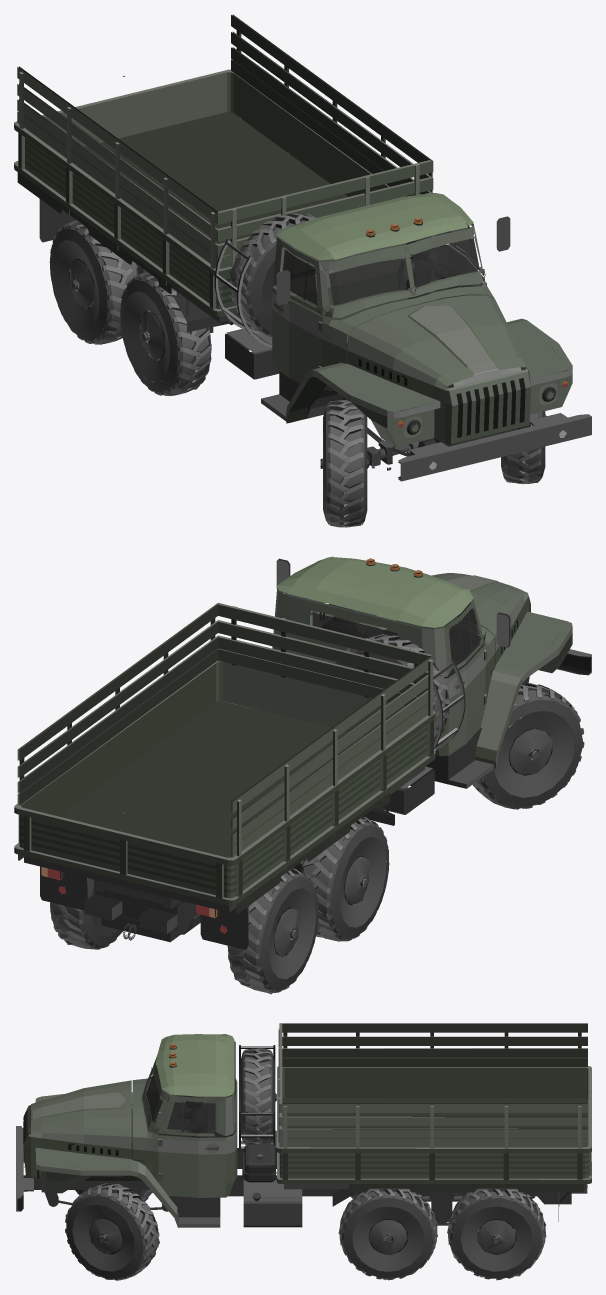
Rendered from vehicle---ural-truck-44202-dad03c.glb.
3 renders of one model, top to bottom at view 1: azimuth 30°, elevation 25°; view 2: azimuth 150°, elevation 25°; view 3: azimuth 270°, elevation 25°, orthographic. The views are drawn at different scales.
Parts seen in each view (by area): view 1: PropMesh; view 2: PropMesh; view 3: PropMesh.
Part boxes in pixels (x1,y1,x2,y2): PropMesh: (14,14,591,527); PropMesh: (14,556,591,994); PropMesh: (16,1023,591,1280).
Bounding box in the file's own units: 0.3161 × 0.2894 × 0.8.
3 materials, 3 textured.
